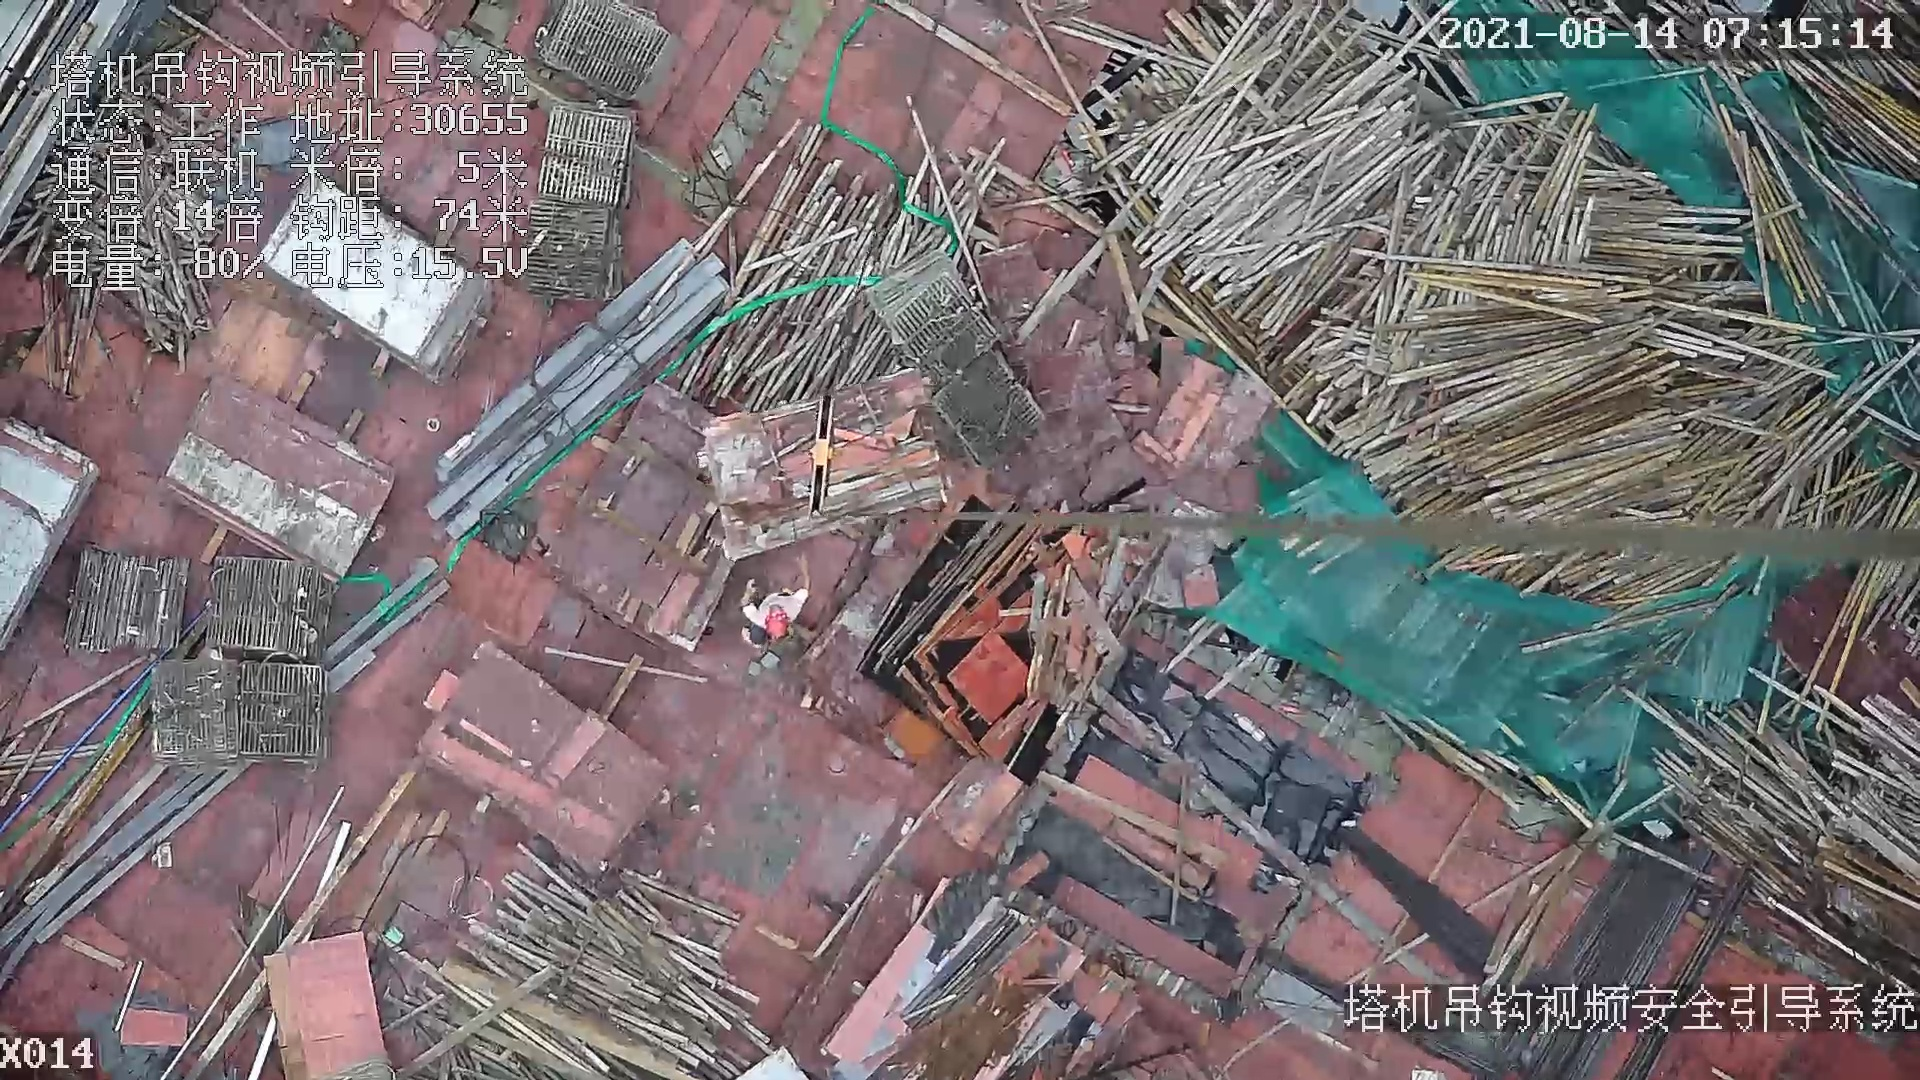helmet: (763, 609, 791, 645)
hook: (797, 389, 838, 521)
person: (735, 565, 814, 645)
